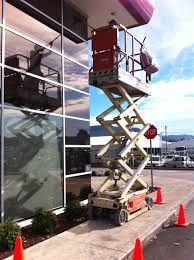Scissor Lift: (87, 19, 163, 228)
